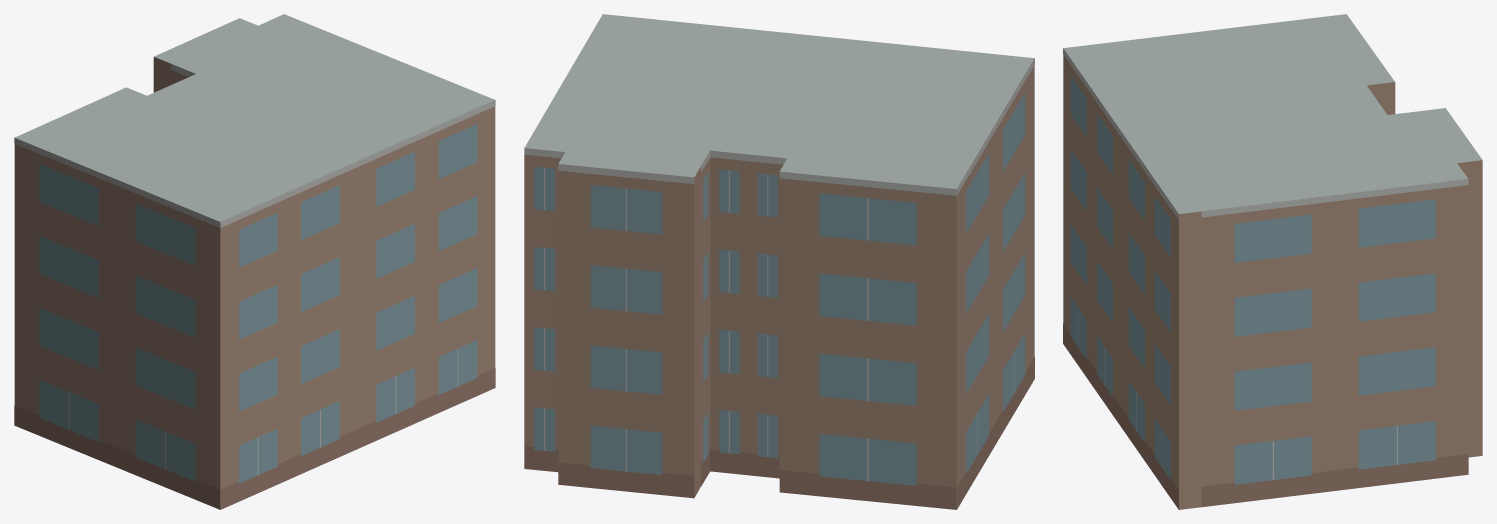
Rendered from survey-upis-33039155.glb.
The picture shows the model from 3 angles, left to right: view 1: azimuth 30°, elevation 25°; view 2: azimuth 150°, elevation 25°; view 3: azimuth 270°, elevation 25°; orthographic projection. The views are drawn at different scales.
Parts seen in each view (by area): view 1: survey-upis-33039155.tmp; view 2: survey-upis-33039155.tmp; view 3: survey-upis-33039155.tmp.
Part boxes in pixels (box(x1,y1,x2,y2)): survey-upis-33039155.tmp: box(14, 14, 495, 509); survey-upis-33039155.tmp: box(524, 14, 1034, 509); survey-upis-33039155.tmp: box(1063, 14, 1482, 509).
Bounding box in the file's own units: 16.99 × 11.7 × 15.05.
